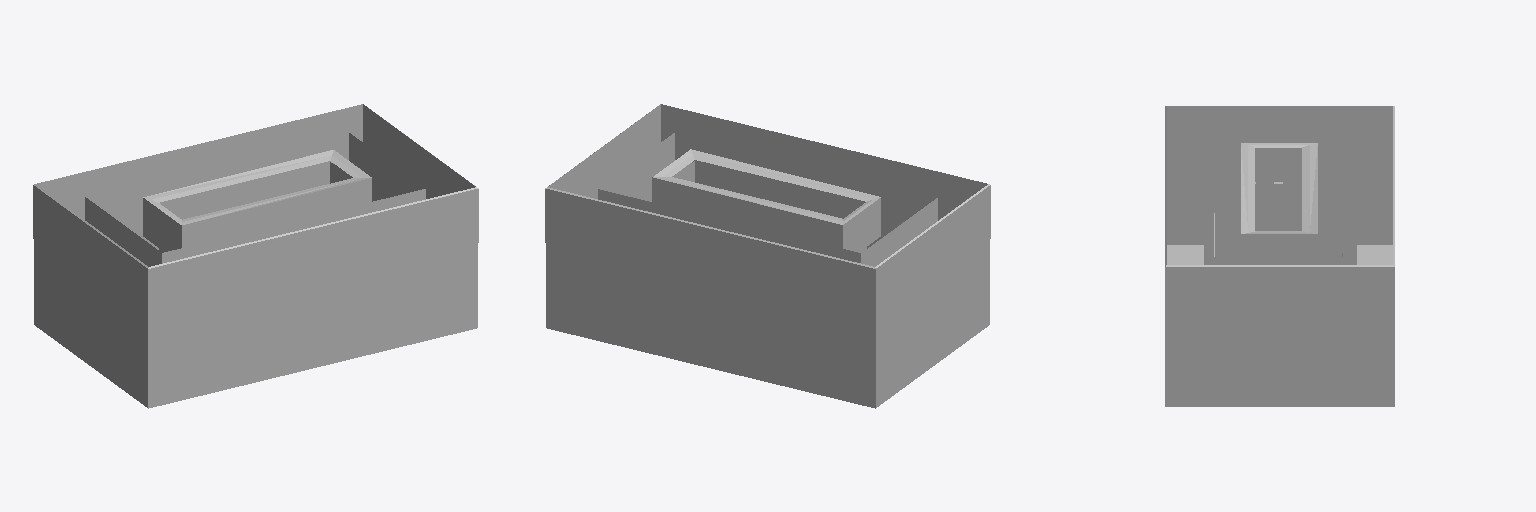
Rendered from sponza_bricks.obj.
3 renders of one model, left to right at view 1: azimuth 30°, elevation 25°; view 2: azimuth 150°, elevation 25°; view 3: azimuth 270°, elevation 25°, orthographic.
Parts seen in each view (by area): view 1: sponza.001; view 2: sponza.001; view 3: sponza.001.
Boxes of the visible parts, x1=… form: sponza.001: x1=33, y1=104, x2=478, y2=408; sponza.001: x1=545, y1=104, x2=990, y2=408; sponza.001: x1=1165, y1=106, x2=1394, y2=406.
Size of the model in its own units: 3614 by 1474 by 2179.